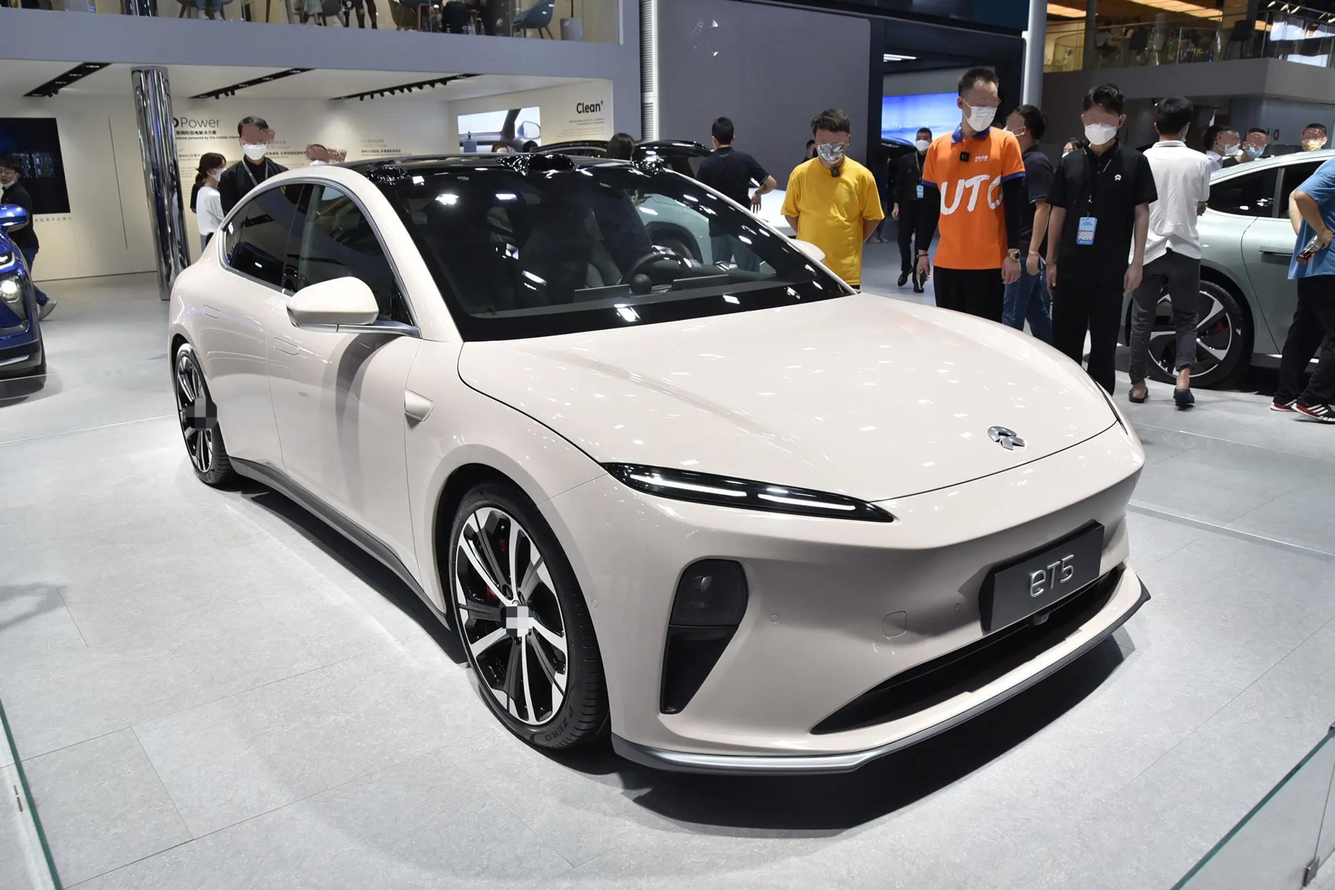NIO: (987, 426, 1025, 450)
